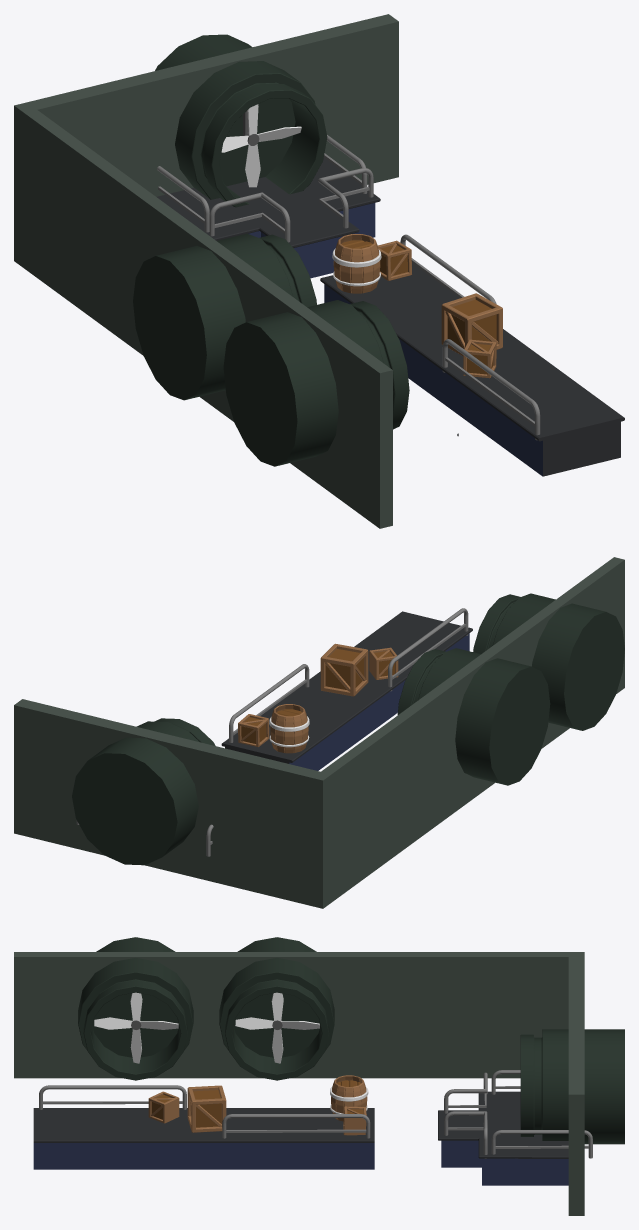
File: Room4.fbx
3 renders of one model, top to bottom at view 1: azimuth 30°, elevation 25°; view 2: azimuth 150°, elevation 25°; view 3: azimuth 270°, elevation 25°, orthographic. The views are drawn at different scales.
Parts seen in each view (by area): view 1: Cube.031, Cube.064, Cylinder.082, Cylinder.081, Cylinder.083, Cube.063, crate.007, barrel.006, Area2_fan2.005, Rail 2.004, Rail 3.004, crate.009 (+4 smaller); view 2: Cube.031, Cylinder.083, Cylinder.081, Cylinder.082, Cube.064, crate.007, barrel.006, Rail 2.004, Rail 2.005, crate.009, crate.008; view 3: Cube.031, Cube.064, Cylinder.082, Cylinder.081, Cylinder.083, Cube.063, crate.007, Area2_fan2.003, Area2_fan2.001, Rail 2.004, Rail 2.005, barrel.006 (+5 smaller).
Boxes of the visible parts, x1,y1,x2,y2 form: Cube.031: [14, 14, 398, 528]; Cube.064: [320, 263, 624, 476]; Cylinder.082: [223, 300, 409, 466]; Cylinder.081: [133, 233, 316, 400]; Cylinder.083: [155, 34, 327, 207]; Cube.063: [157, 157, 380, 278]; crate.007: [441, 293, 502, 355]; barrel.006: [332, 234, 381, 293]; Area2_fan2.005: [221, 104, 301, 187]; Rail 2.004: [442, 339, 540, 440]; Rail 3.004: [209, 192, 290, 242]; crate.009: [378, 240, 411, 280]; Cube.031: [14, 557, 624, 908]; Cylinder.083: [72, 718, 215, 865]; Cylinder.081: [397, 648, 550, 785]; Cylinder.082: [473, 593, 624, 730]; Cube.064: [221, 611, 472, 770]; crate.007: [320, 643, 368, 696]; barrel.006: [269, 704, 309, 753]; Rail 2.004: [388, 608, 468, 691]; Rail 2.005: [229, 664, 309, 742]; crate.009: [238, 714, 269, 747]; crate.008: [369, 647, 398, 679]; Cube.031: [14, 952, 584, 1215]; Cube.064: [33, 1108, 374, 1169]; Cylinder.082: [78, 937, 193, 1080]; Cylinder.081: [219, 937, 334, 1080]; Cylinder.083: [520, 1029, 624, 1144]; Cube.063: [438, 1091, 568, 1185]; crate.007: [187, 1085, 226, 1132]; Area2_fan2.003: [94, 992, 178, 1063]; Area2_fan2.001: [235, 992, 319, 1063]; Rail 2.004: [39, 1085, 186, 1109]; Rail 2.005: [222, 1114, 370, 1138]; barrel.006: [330, 1075, 368, 1121].
Bounding box in the file's own units: 4668 × 1668 × 7613.
